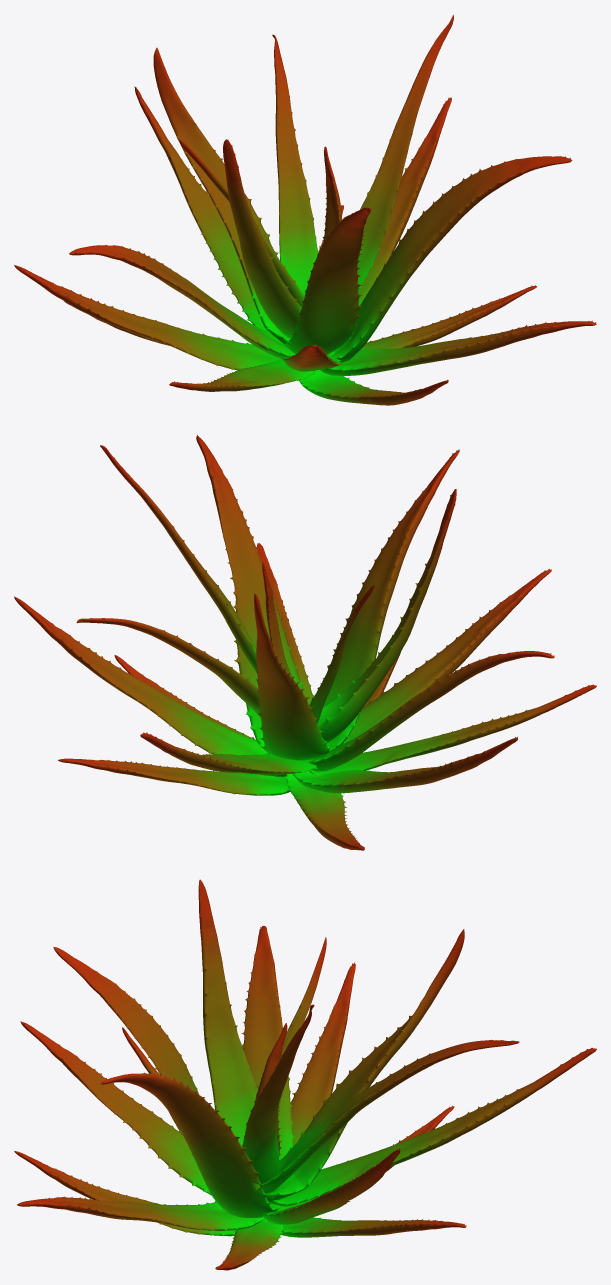
The model's file is Aloe Vera_LOD0_Var7_ve4tbbrha.fbx.
3 views of the same model, one above another, from view 1: azimuth 30°, elevation 25°; view 2: azimuth 150°, elevation 25°; view 3: azimuth 270°, elevation 25° (orthographic). The views are drawn at different scales.
Visible parts, largest first — view 1: _yk28_Var7_LOD0; view 2: _yk28_Var7_LOD0; view 3: _yk28_Var7_LOD0.
Part boxes in pixels (left/top/right/bottom): _yk28_Var7_LOD0: left=14, top=14, right=596, bottom=405; _yk28_Var7_LOD0: left=14, top=435, right=596, bottom=850; _yk28_Var7_LOD0: left=14, top=879, right=596, bottom=1270.
Bounding box in the file's own units: 61.05 × 39 × 66.52.
